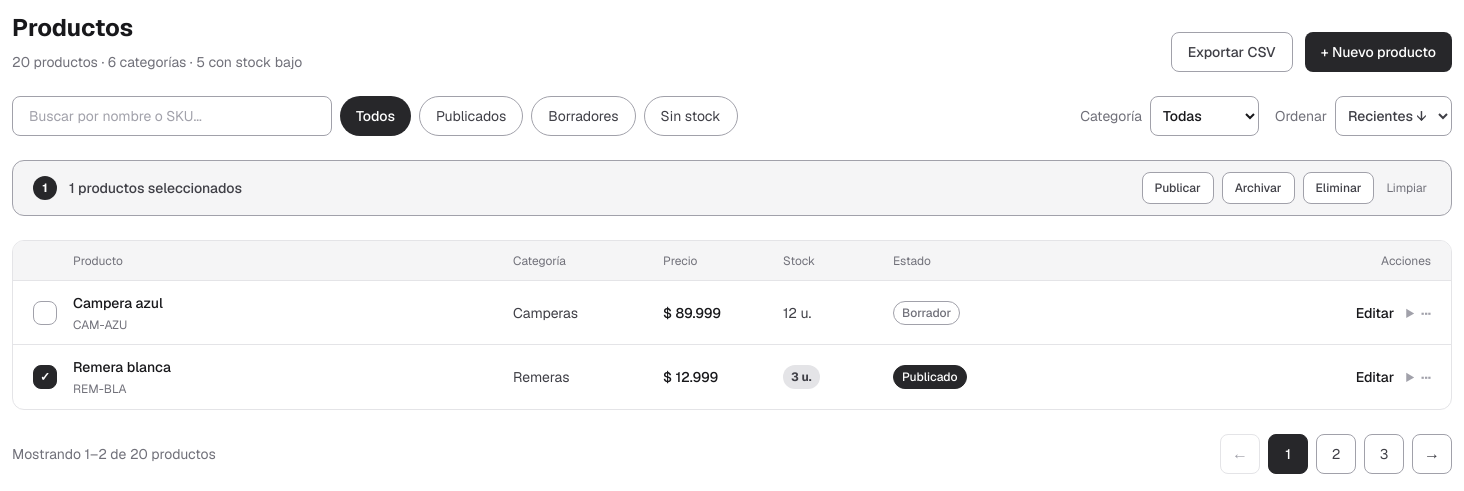
Test: AdminProductsWorkspace › filters by status pill using the backend status values
Click the button "Sin stock" at (691, 116), box [644, 96, 738, 136]
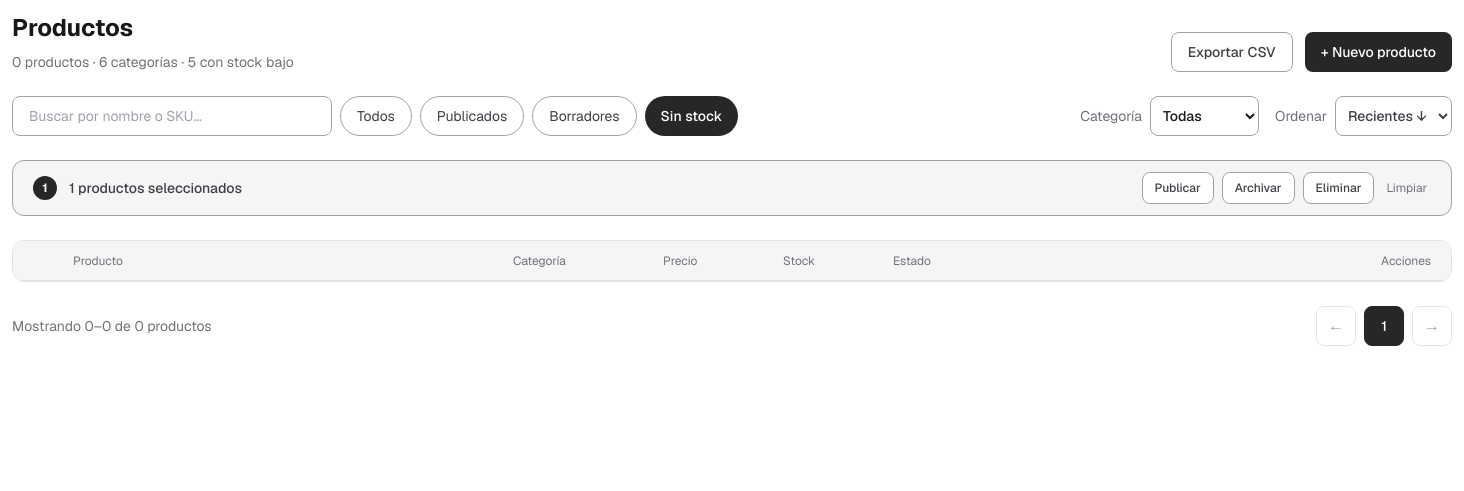
Check: the button "Sin stock" is marked as current, box [644, 96, 738, 136]
